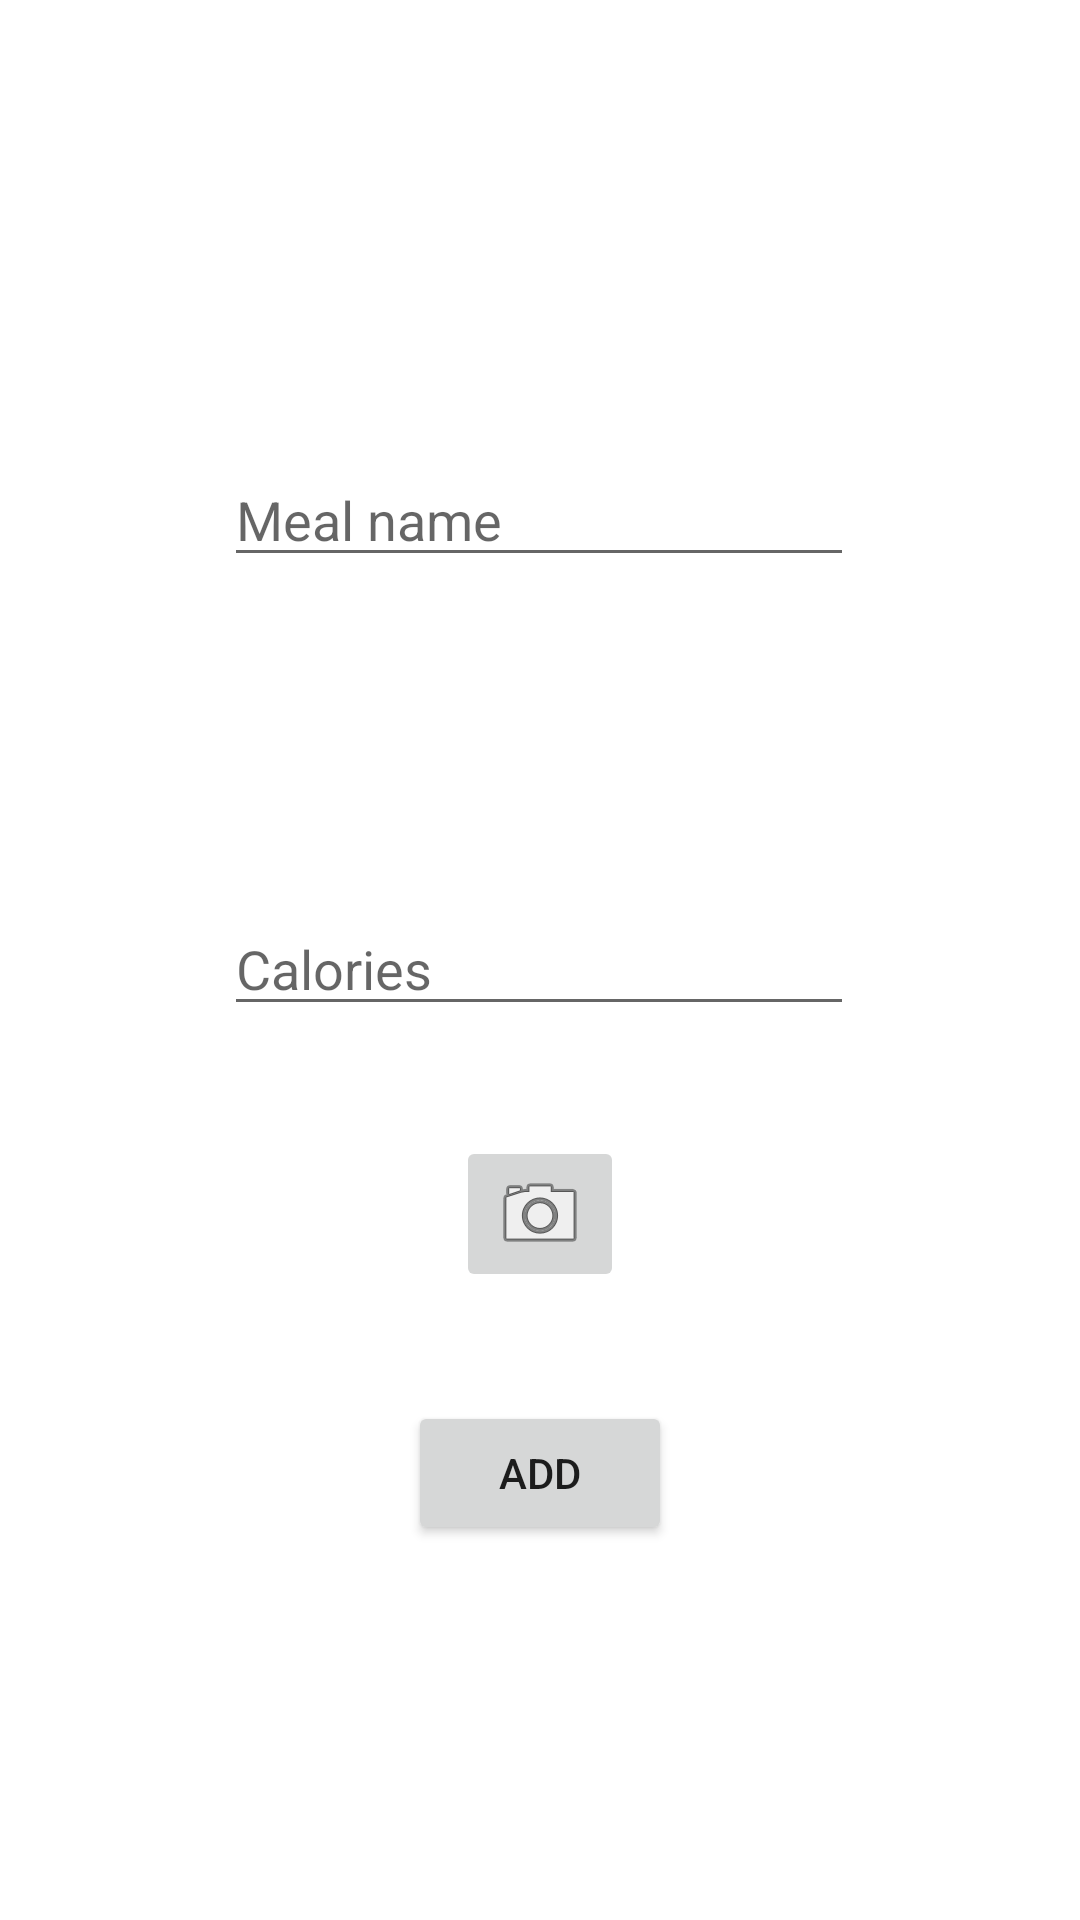

Where to tap for icons on this 1080px×1920px app screen, as [x,y]:
camera: [540,1214]
